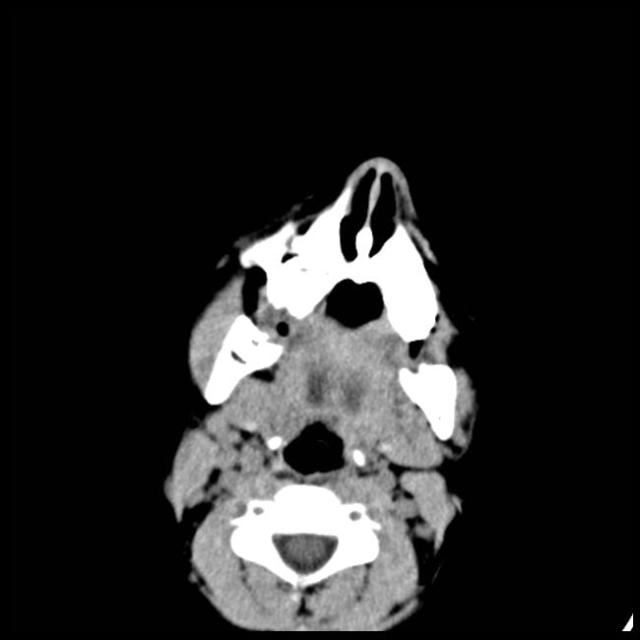lesion: (158, 151, 486, 636)
